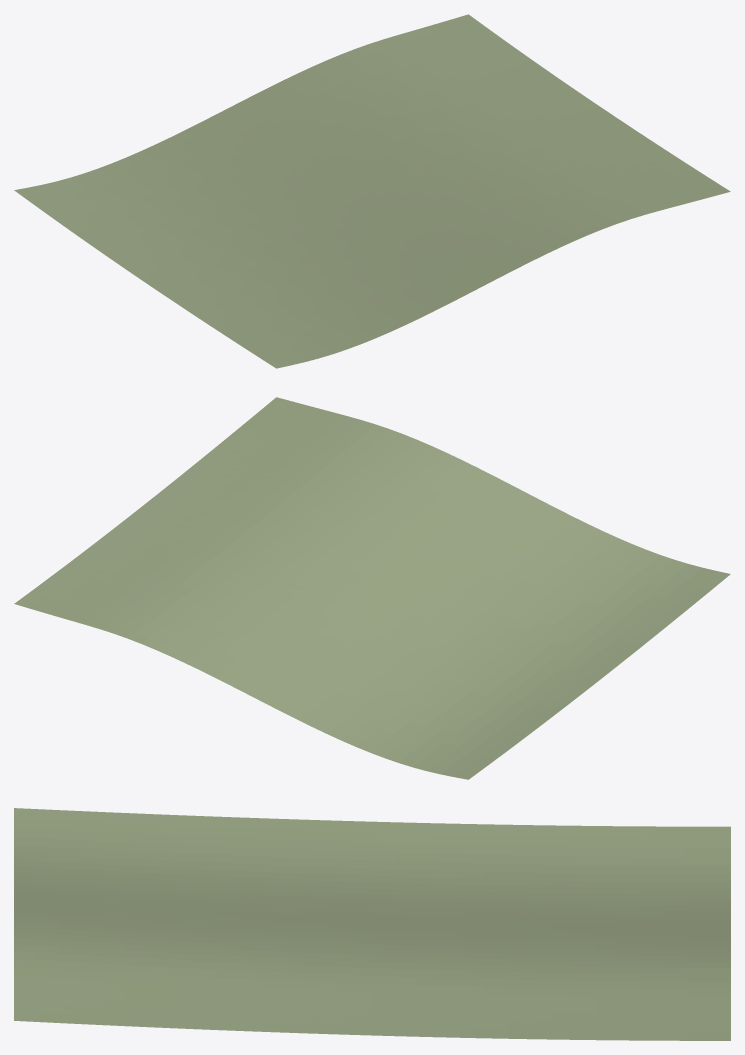
File: canyon-3-0.glb
The picture shows the model from 3 angles, top to bottom: view 1: azimuth 30°, elevation 25°; view 2: azimuth 150°, elevation 25°; view 3: azimuth 270°, elevation 25°; orthographic projection. The views are drawn at different scales.
Visible parts, largest first — view 1: canyon-3-0; view 2: canyon-3-0; view 3: canyon-3-0.
Part boxes in pixels (<box>): canyon-3-0: <box>14,14,730,368</box>; canyon-3-0: <box>14,397,730,779</box>; canyon-3-0: <box>14,808,730,1040</box>.
Bounding box in the file's own units: 128 × 21.87 × 128.
